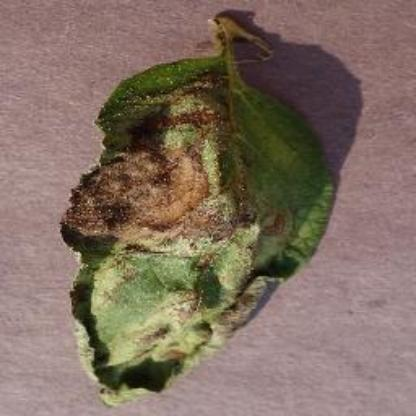Late-Blight: (46, 23, 346, 397)
